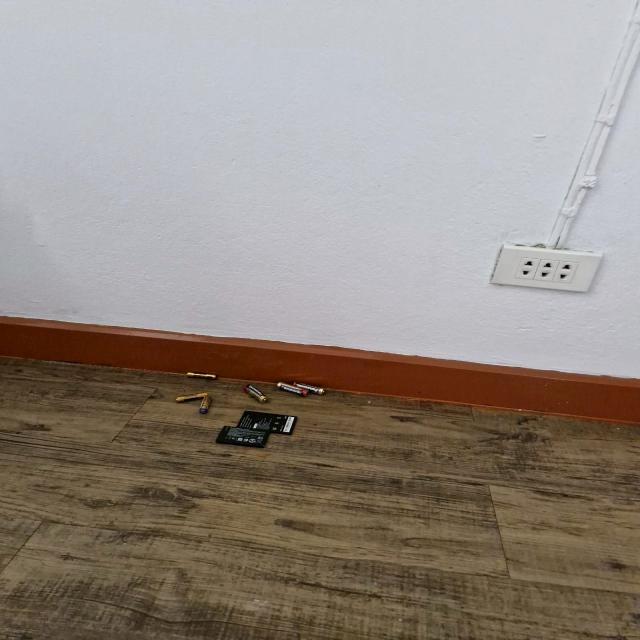battery: (219, 425, 278, 447)
